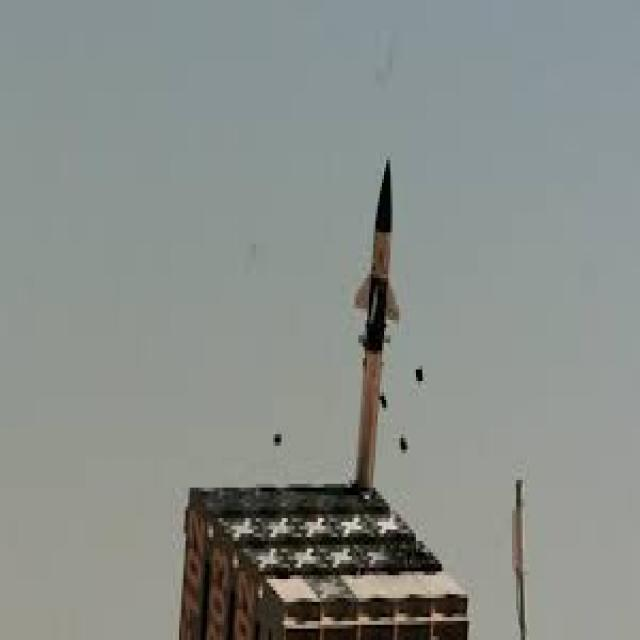missile: (344, 147, 411, 506)
